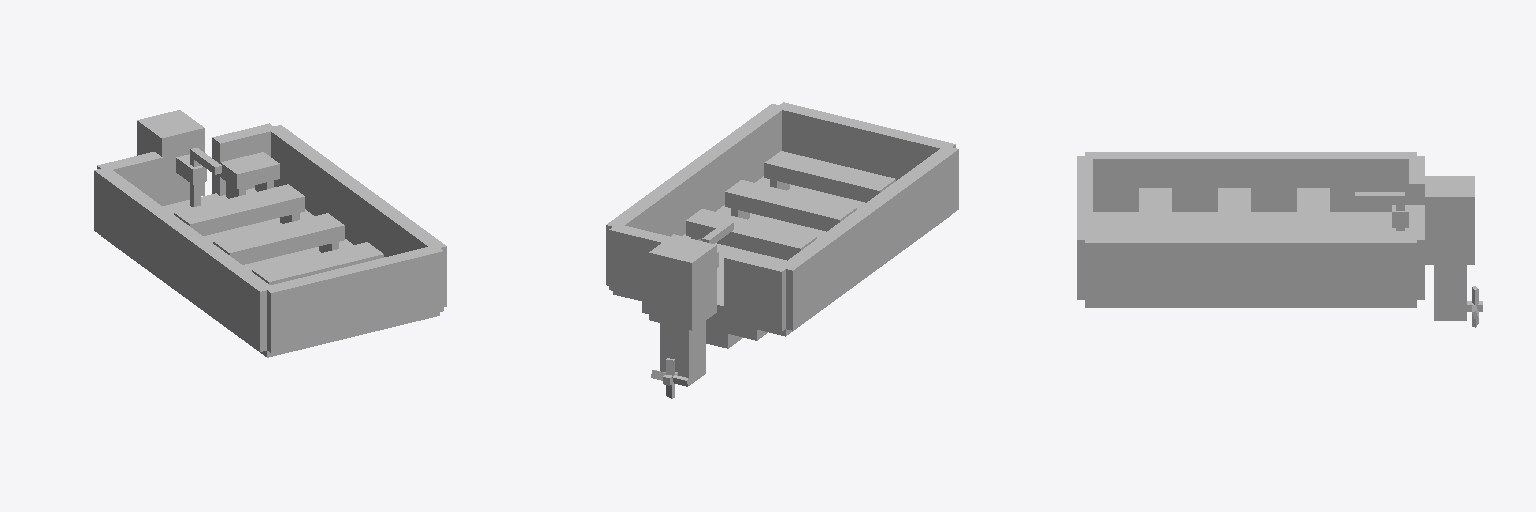
Rendered from nathan_boat.obj.
3 views of the same model, side by side, from view 1: azimuth 30°, elevation 25°; view 2: azimuth 150°, elevation 25°; view 3: azimuth 270°, elevation 25° (orthographic).
Parts seen in each view (by area): view 1: cube4, cube3, cube5, engine, cube11, cube14, cube2, cube8, cube7, cube6, cube17; view 2: cube4, cube5, engine, cube3, cube6, cube8, cube11, cube14, cube7, cube2, cube1, blade; view 3: cube5, cube4, engine, cube2, cube3, cube8, cube11, cube14, cube7, cube6.
Boxes of the visible parts, x1=… form: cube4: x1=94, y1=167, x2=273, y2=351; cube3: x1=267, y1=246, x2=443, y2=352; cube5: x1=271, y1=125, x2=446, y2=306; engine: x1=137, y1=110, x2=221, y2=206; cube11: x1=213, y1=213, x2=344, y2=264; cube14: x1=174, y1=184, x2=304, y2=235; cube2: x1=101, y1=187, x2=439, y2=357; cube8: x1=252, y1=242, x2=383, y2=284; cube7: x1=212, y1=123, x2=277, y2=195; cube6: x1=97, y1=152, x2=162, y2=205; cube17: x1=220, y1=152, x2=279, y2=188; cube4: x1=779, y1=146, x2=958, y2=330; cube5: x1=606, y1=104, x2=781, y2=285; engine: x1=649, y1=220, x2=733, y2=385; cube3: x1=776, y1=102, x2=955, y2=180; cube6: x1=724, y1=252, x2=788, y2=331; cube8: x1=764, y1=151, x2=895, y2=202; cube11: x1=725, y1=180, x2=856, y2=231; cube14: x1=686, y1=209, x2=816, y2=260; cube7: x1=609, y1=224, x2=669, y2=299; cube2: x1=613, y1=176, x2=949, y2=336; cube1: x1=642, y1=302, x2=767, y2=340; blade: x1=651, y1=358, x2=689, y2=398; cube5: x1=1085, y1=236, x2=1416, y2=303; cube4: x1=1085, y1=152, x2=1416, y2=211; engine: x1=1355, y1=176, x2=1474, y2=320; cube2: x1=1085, y1=212, x2=1416, y2=307; cube3: x1=1077, y1=156, x2=1092, y2=299; cube8: x1=1139, y1=188, x2=1171, y2=235; cube11: x1=1218, y1=188, x2=1250, y2=235; cube14: x1=1297, y1=188, x2=1329, y2=235; cube7: x1=1409, y1=212, x2=1424, y2=299; cube6: x1=1409, y1=156, x2=1424, y2=204.
Size of the model in its own units: 3.25 by 2.31 by 6.12.